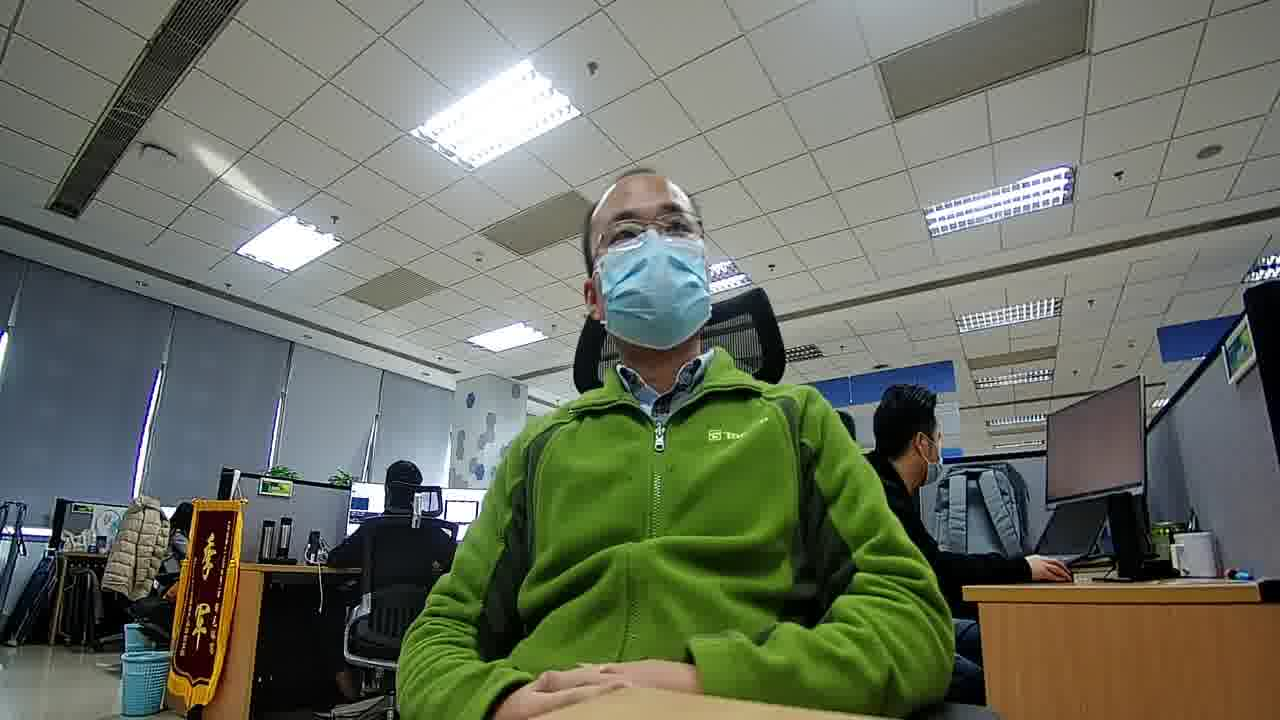face: (593, 185, 715, 352)
mask: (596, 230, 711, 348)
person: (510, 163, 835, 450), (851, 375, 969, 536), (365, 457, 440, 537), (165, 494, 195, 545)
